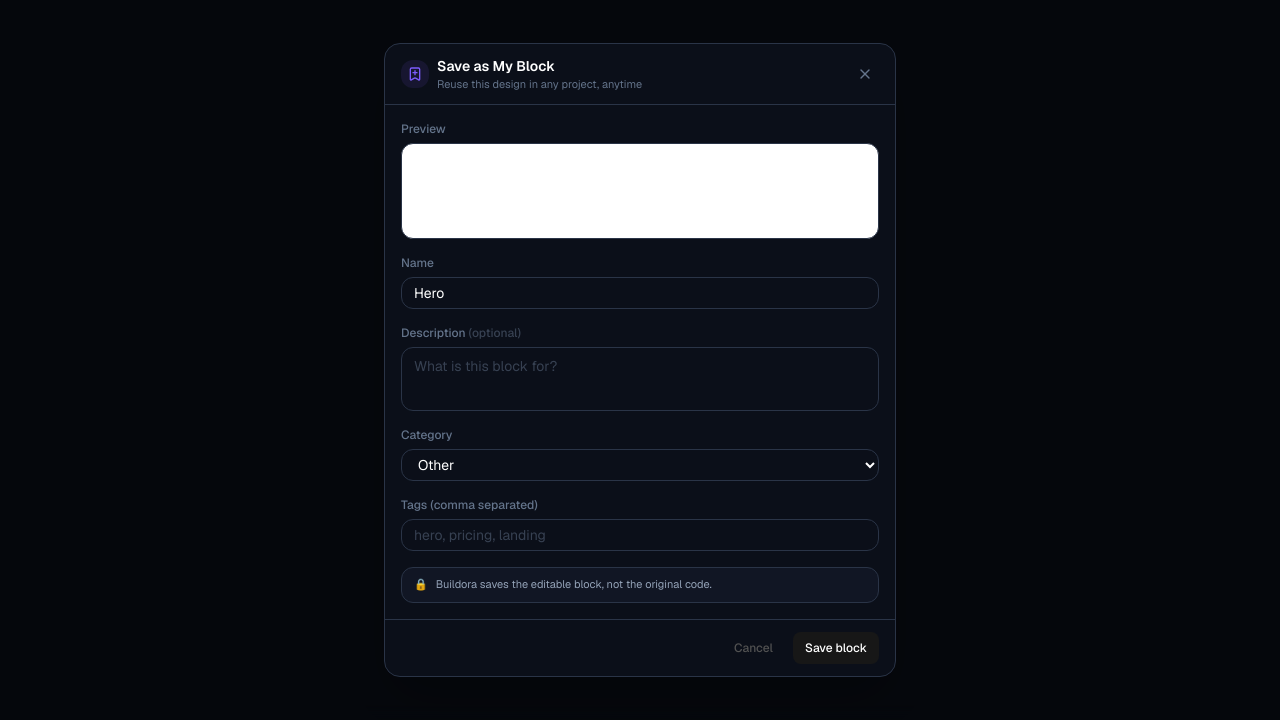
SaveMyBlockDialog — duplicate-safe naming › surfaces structured storage errors in the dialog
This screenshot has width=1280, height=720.
What coordinates should you click on to do the following:
click the button with test id "save-block-submit"
I would click on:
 (836, 648)
Its box is [793, 632, 879, 664].
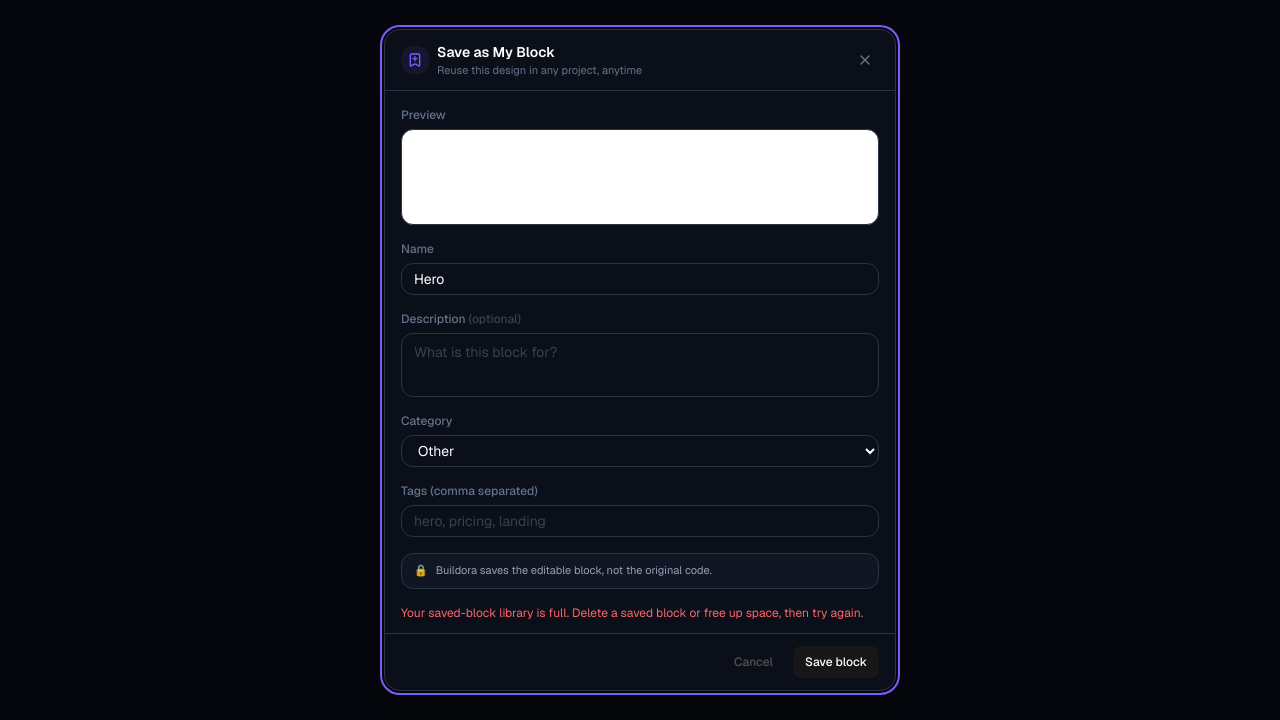
Expected: the button with test id "save-block-submit" is enabled, [793, 646, 879, 678]
Expected: the message with test id "save-block-error" shows "library is full", [401, 605, 863, 621]
